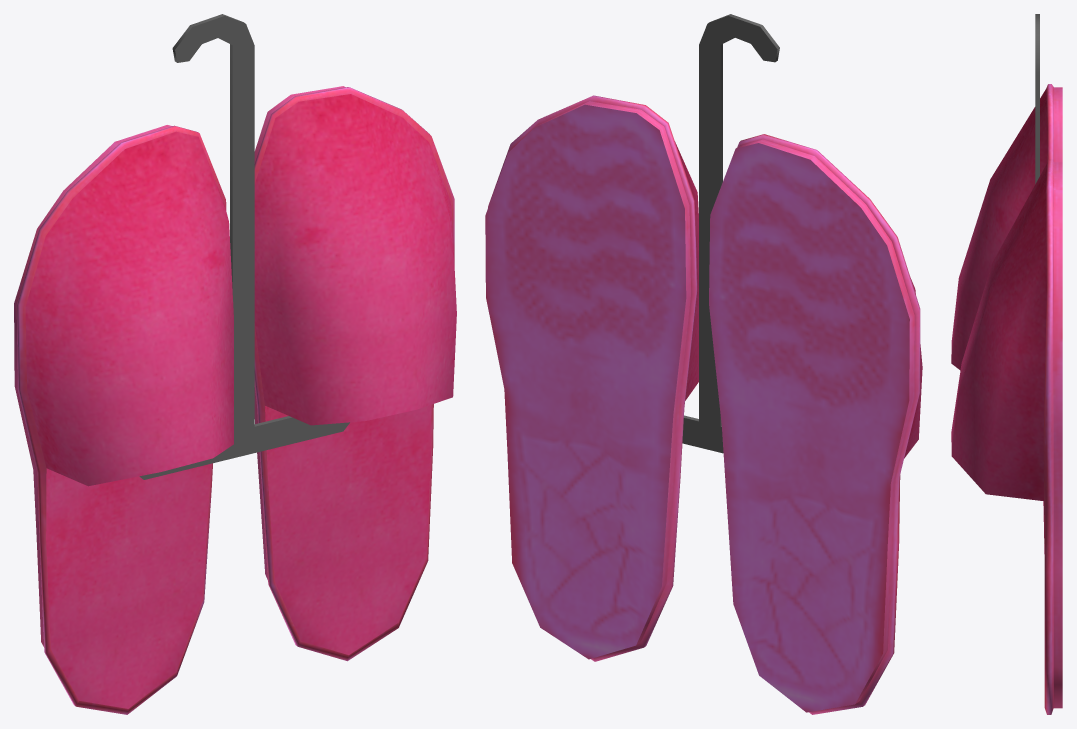
Rendered from Product_slippers01.FBX.
3 renders of one model, left to right at view 1: azimuth 30°, elevation 25°; view 2: azimuth 150°, elevation 25°; view 3: azimuth 270°, elevation 25°, orthographic. The views are drawn at different scales.
Visible parts, largest first — view 1: Product_slippers01_LOD00; view 2: Product_slippers01_LOD00; view 3: Product_slippers01_LOD00.
Part boxes in pixels (left/top/right/bottom): Product_slippers01_LOD00: left=14, top=14, right=456, bottom=714; Product_slippers01_LOD00: left=485, top=14, right=922, bottom=714; Product_slippers01_LOD00: left=951, top=14, right=1062, bottom=714.
Size of what is drawn, in the model's own units: 0.3044 by 0.4537 by 0.0729.
